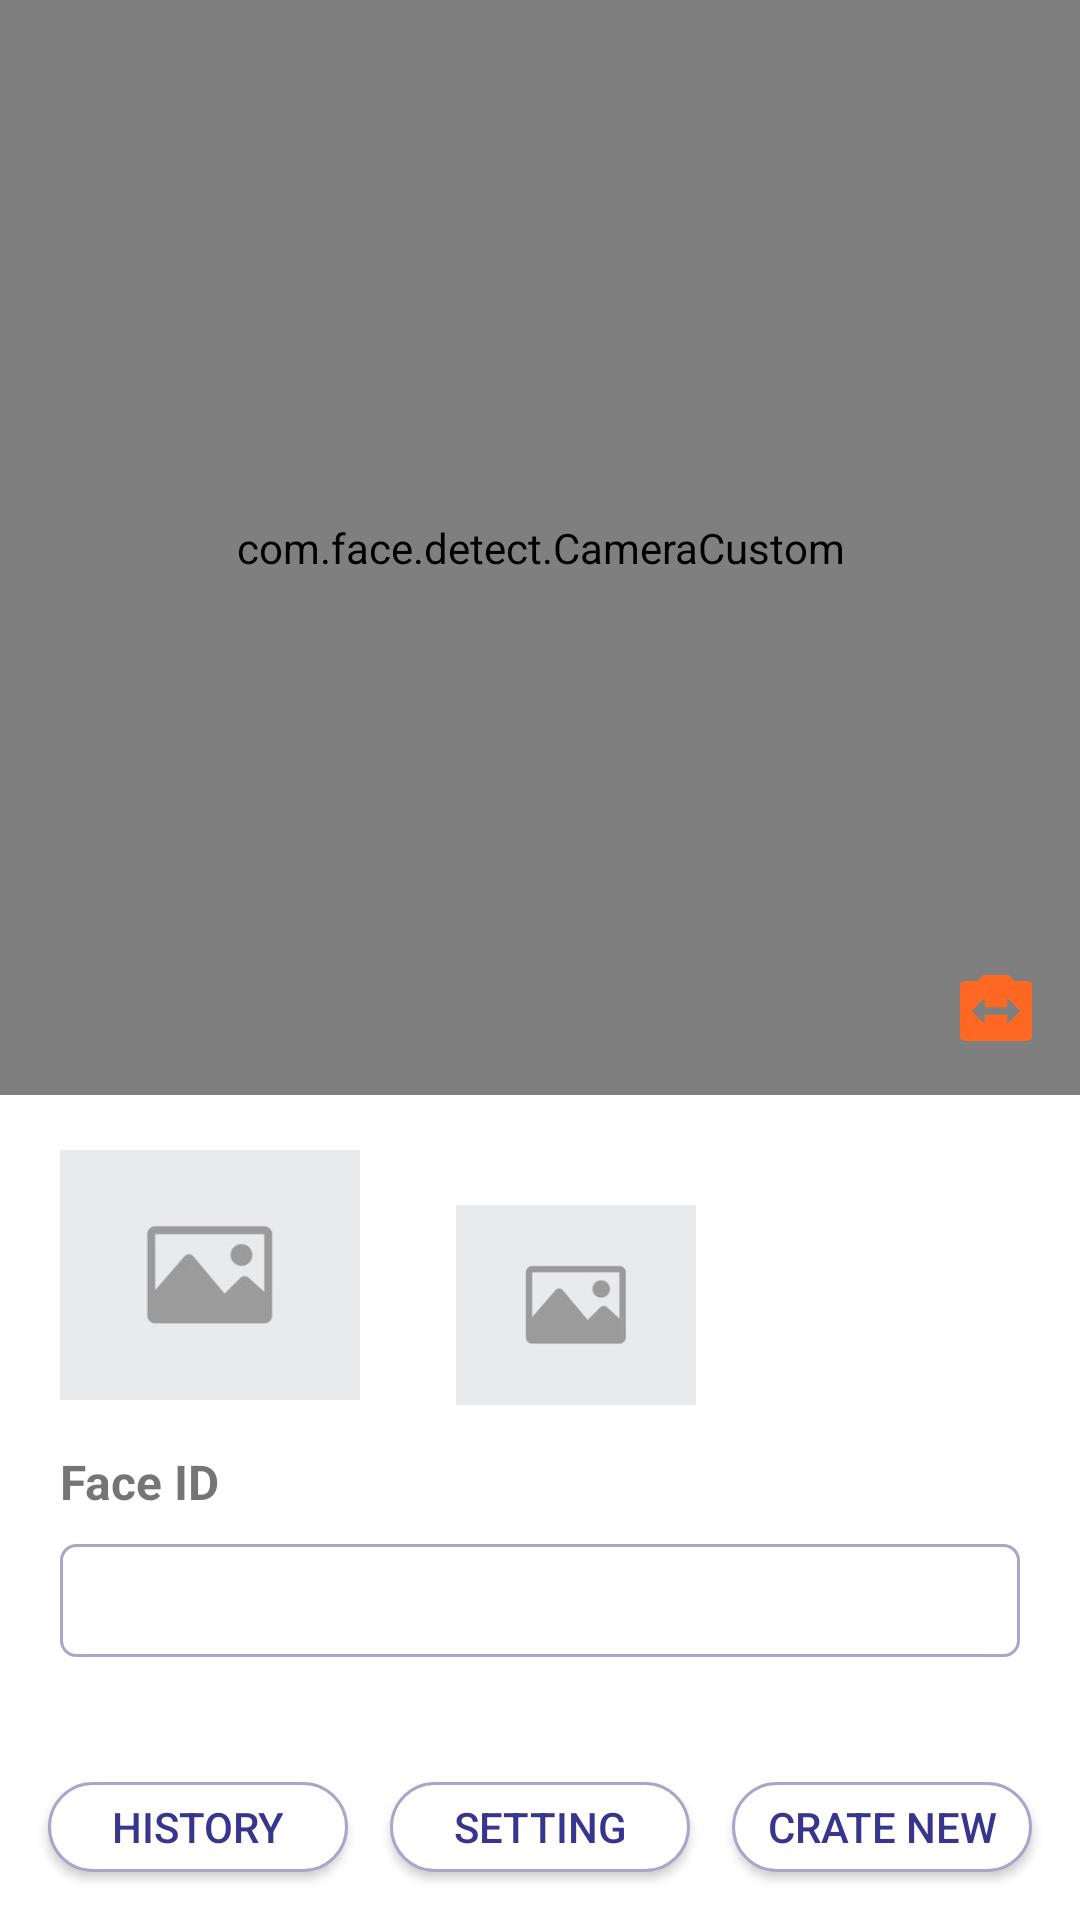

Icons on this 1080w x 1920h Android screen, each with its box as detection(x1, y1, x2, y2):
imgae: detection(143, 1224, 273, 1325), detection(523, 1264, 626, 1345)
switch camera: detection(960, 975, 1032, 1041)
